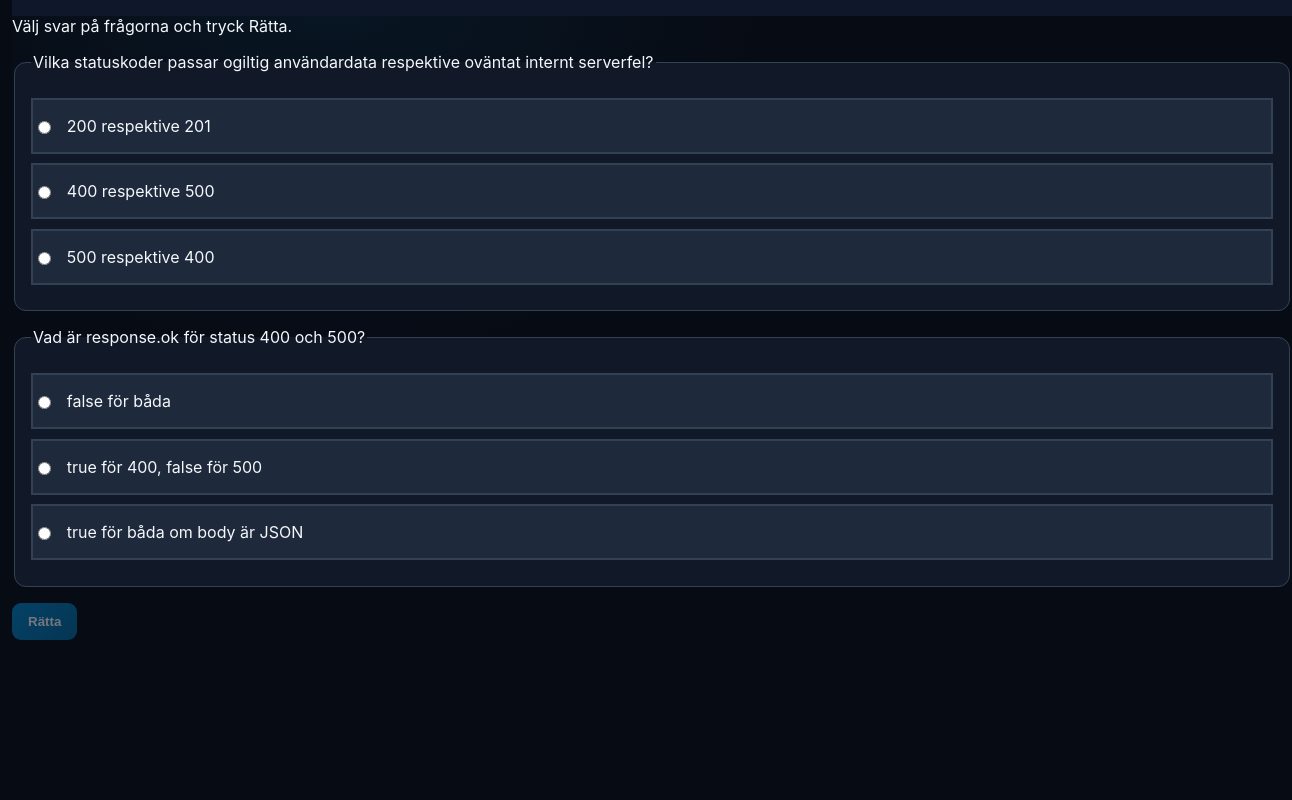
Test case: resets answers and result when navigating to another keyed lesson
Click the radio button labelled "400 respektive 500". click: (44, 193)
box: x1=38 y1=186 x2=51 y2=199
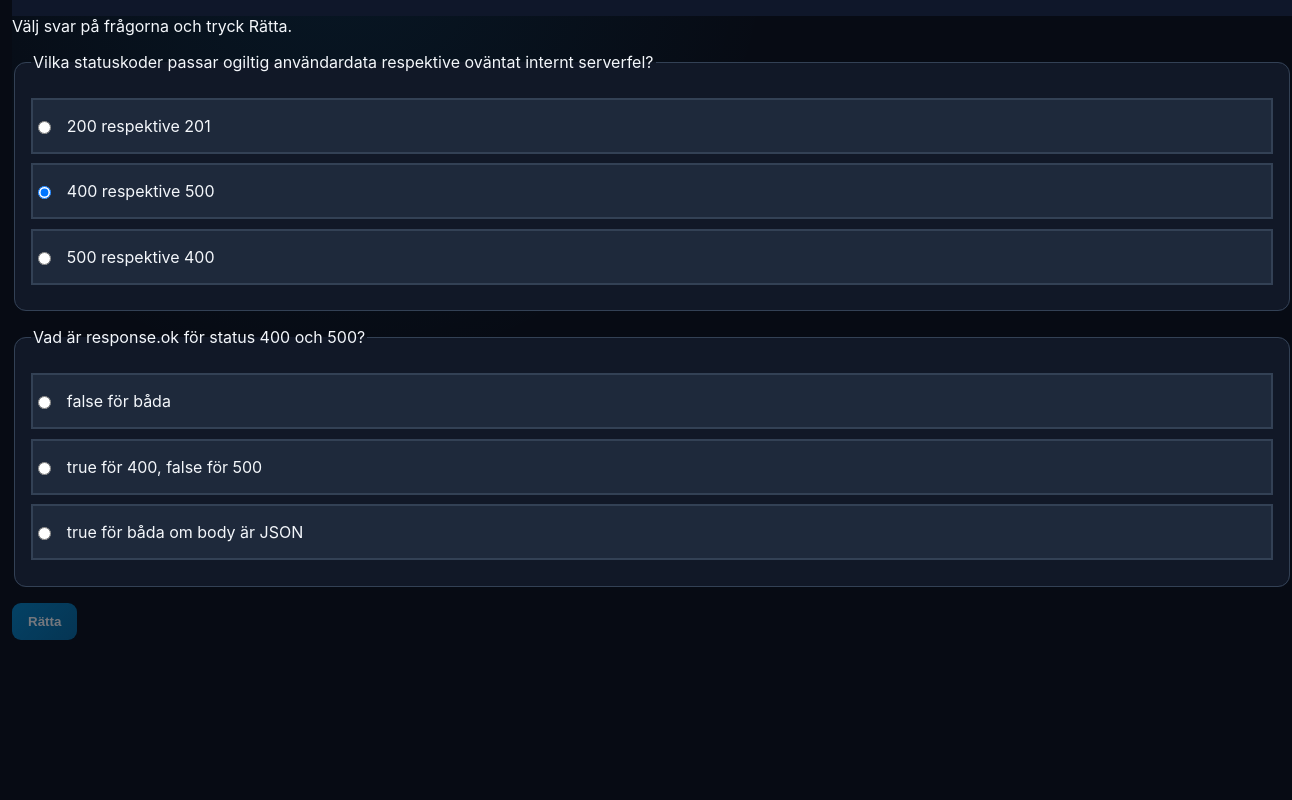
Click the radio button labelled "false för båda". click: (44, 402)
box: x1=38 y1=396 x2=51 y2=409
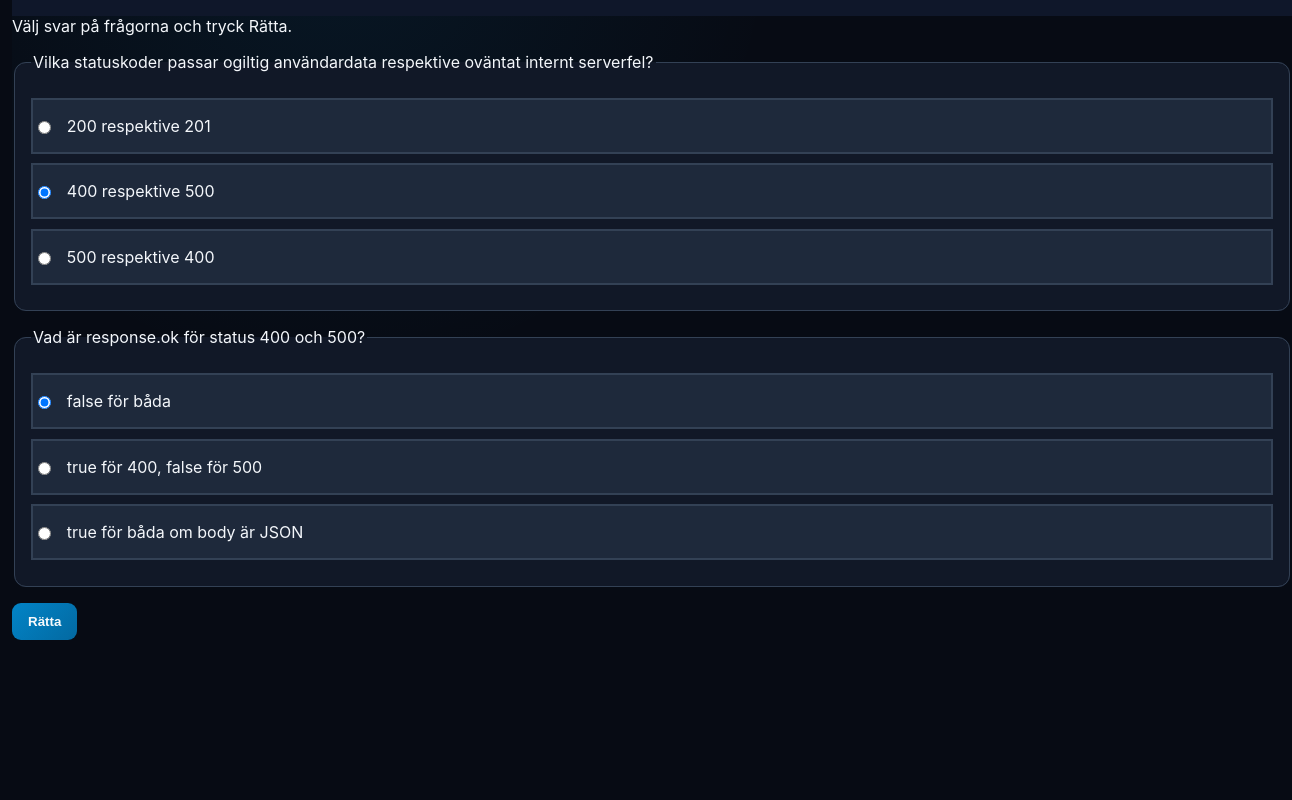
Click the button "Rätta". click: (45, 622)
box: x1=12 y1=603 x2=77 y2=640
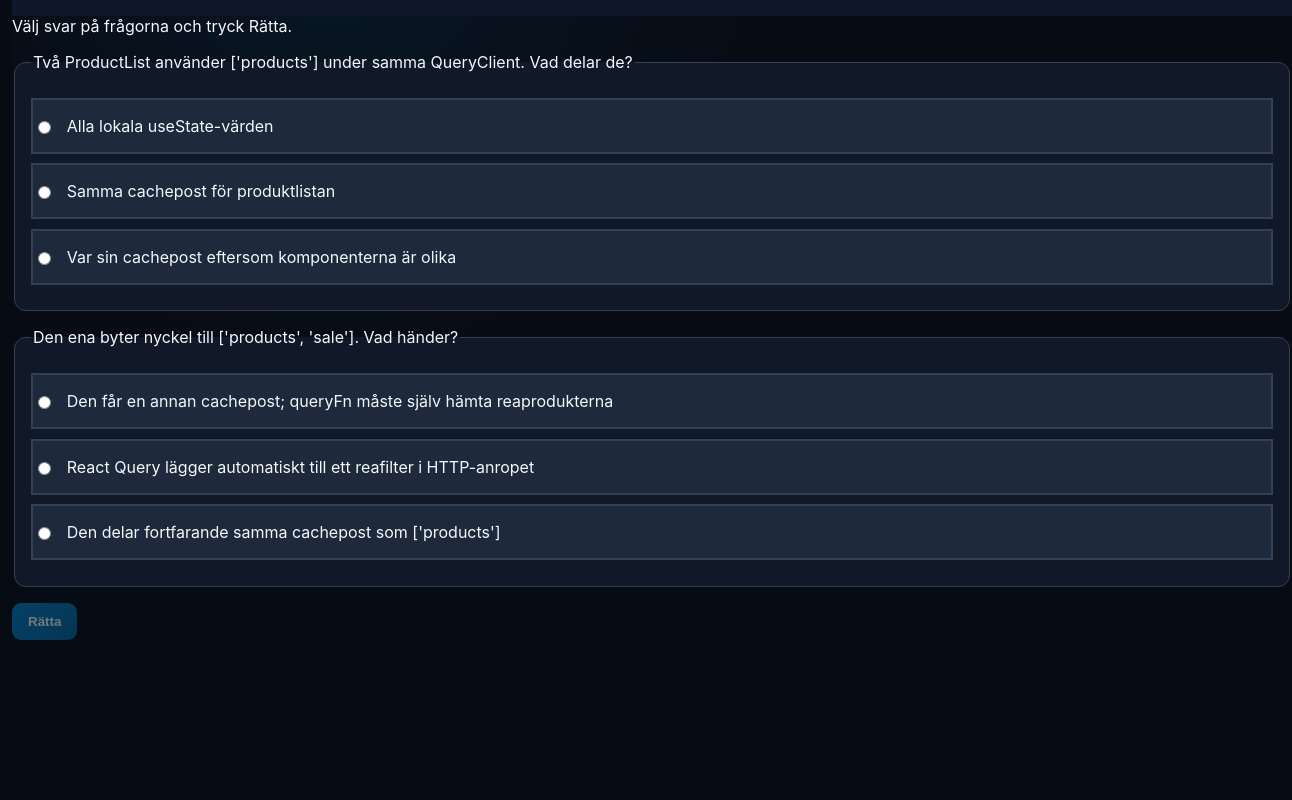
Result: the text "ProductList" is shown at x1=33 y1=52 x2=633 y2=72
Result: the button "Rätta" is disabled at x1=12 y1=603 x2=77 y2=640
